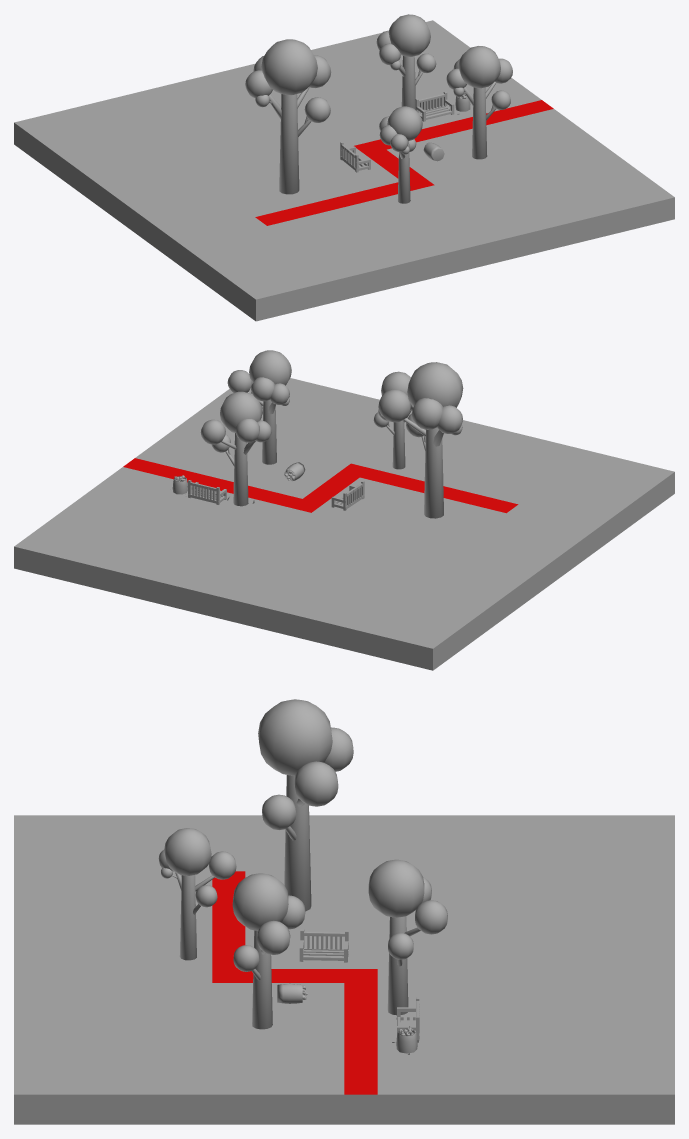
The model's file is forest.fbx.
3 renders of one model, top to bottom at view 1: azimuth 30°, elevation 25°; view 2: azimuth 150°, elevation 25°; view 3: azimuth 270°, elevation 25°, orthographic. The views are drawn at different scales.
Visible parts, largest first — view 1: pasted__pCube1, polySurface76, polySurface72, polySurface12, polySurface75, polySurface2, polySurface73; view 2: pasted__pCube1, polySurface76, polySurface12, polySurface72, polySurface75, polySurface2, polySurface73; view 3: pasted__pCube1, polySurface76, polySurface72, polySurface12, polySurface75, polySurface73.
Boxes of the visible parts, x1=… form: pasted__pCube1: x1=14, y1=20, x2=674, y2=321; polySurface76: x1=245, y1=39, x2=331, y2=194; polySurface72: x1=446, y1=46, x2=512, y2=159; polySurface12: x1=376, y1=14, x2=436, y2=109; polySurface75: x1=379, y1=106, x2=422, y2=203; polySurface2: x1=415, y1=91, x2=454, y2=121; polySurface73: x1=340, y1=142, x2=370, y2=172; pasted__pCube1: x1=14, y1=378, x2=674, y2=670; polySurface76: x1=378, y1=362, x2=463, y2=518; polySurface12: x1=200, y1=391, x2=271, y2=506; polySurface72: x1=227, y1=350, x2=291, y2=464; polySurface75: x1=373, y1=371, x2=413, y2=469; polySurface2: x1=188, y1=480, x2=226, y2=504; polySurface73: x1=331, y1=481, x2=364, y2=510; pasted__pCube1: x1=14, y1=815, x2=674, y2=1124; polySurface76: x1=258, y1=699, x2=353, y2=911; polySurface72: x1=232, y1=873, x2=305, y2=1029; polySurface12: x1=368, y1=859, x2=447, y2=1015; polySurface75: x1=158, y1=828, x2=236, y2=960; polySurface73: x1=299, y1=929, x2=348, y2=962.
Bounding box in the file's own units: 15.91 × 6.21 × 15.91.
